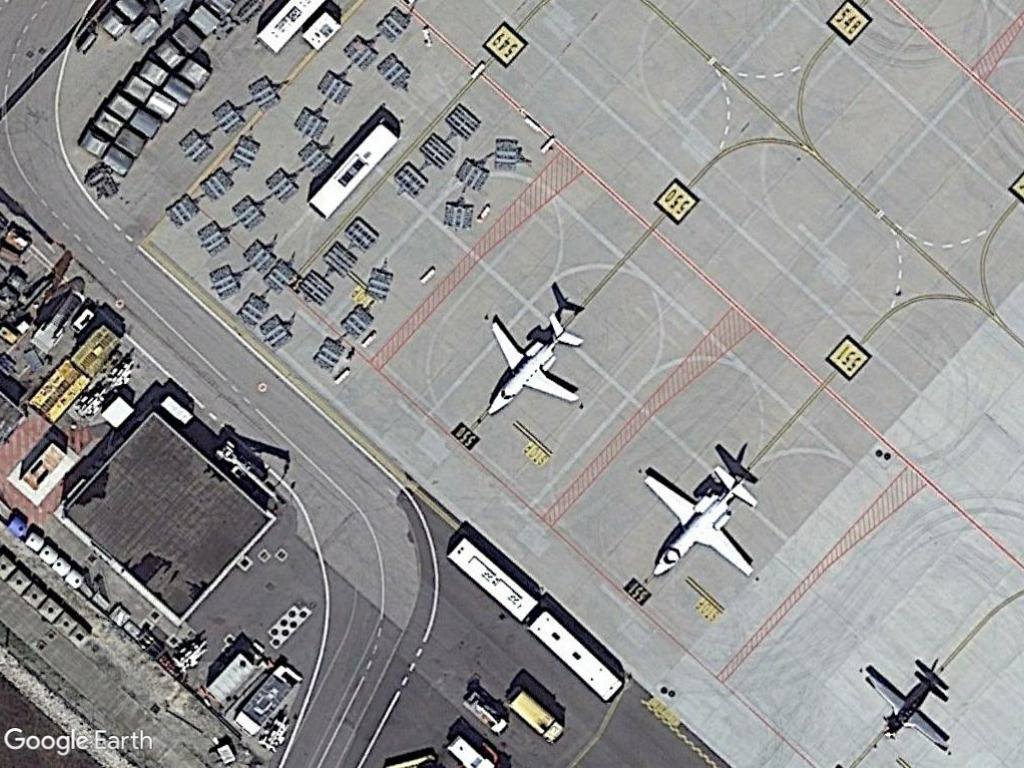bus: (302, 113, 408, 223), (524, 601, 632, 700), (442, 528, 543, 625)
chartered: (640, 455, 766, 592), (483, 311, 586, 416)
stairtruck: (27, 273, 92, 358)
trainer: (862, 655, 960, 762)
van: (504, 681, 569, 749)
